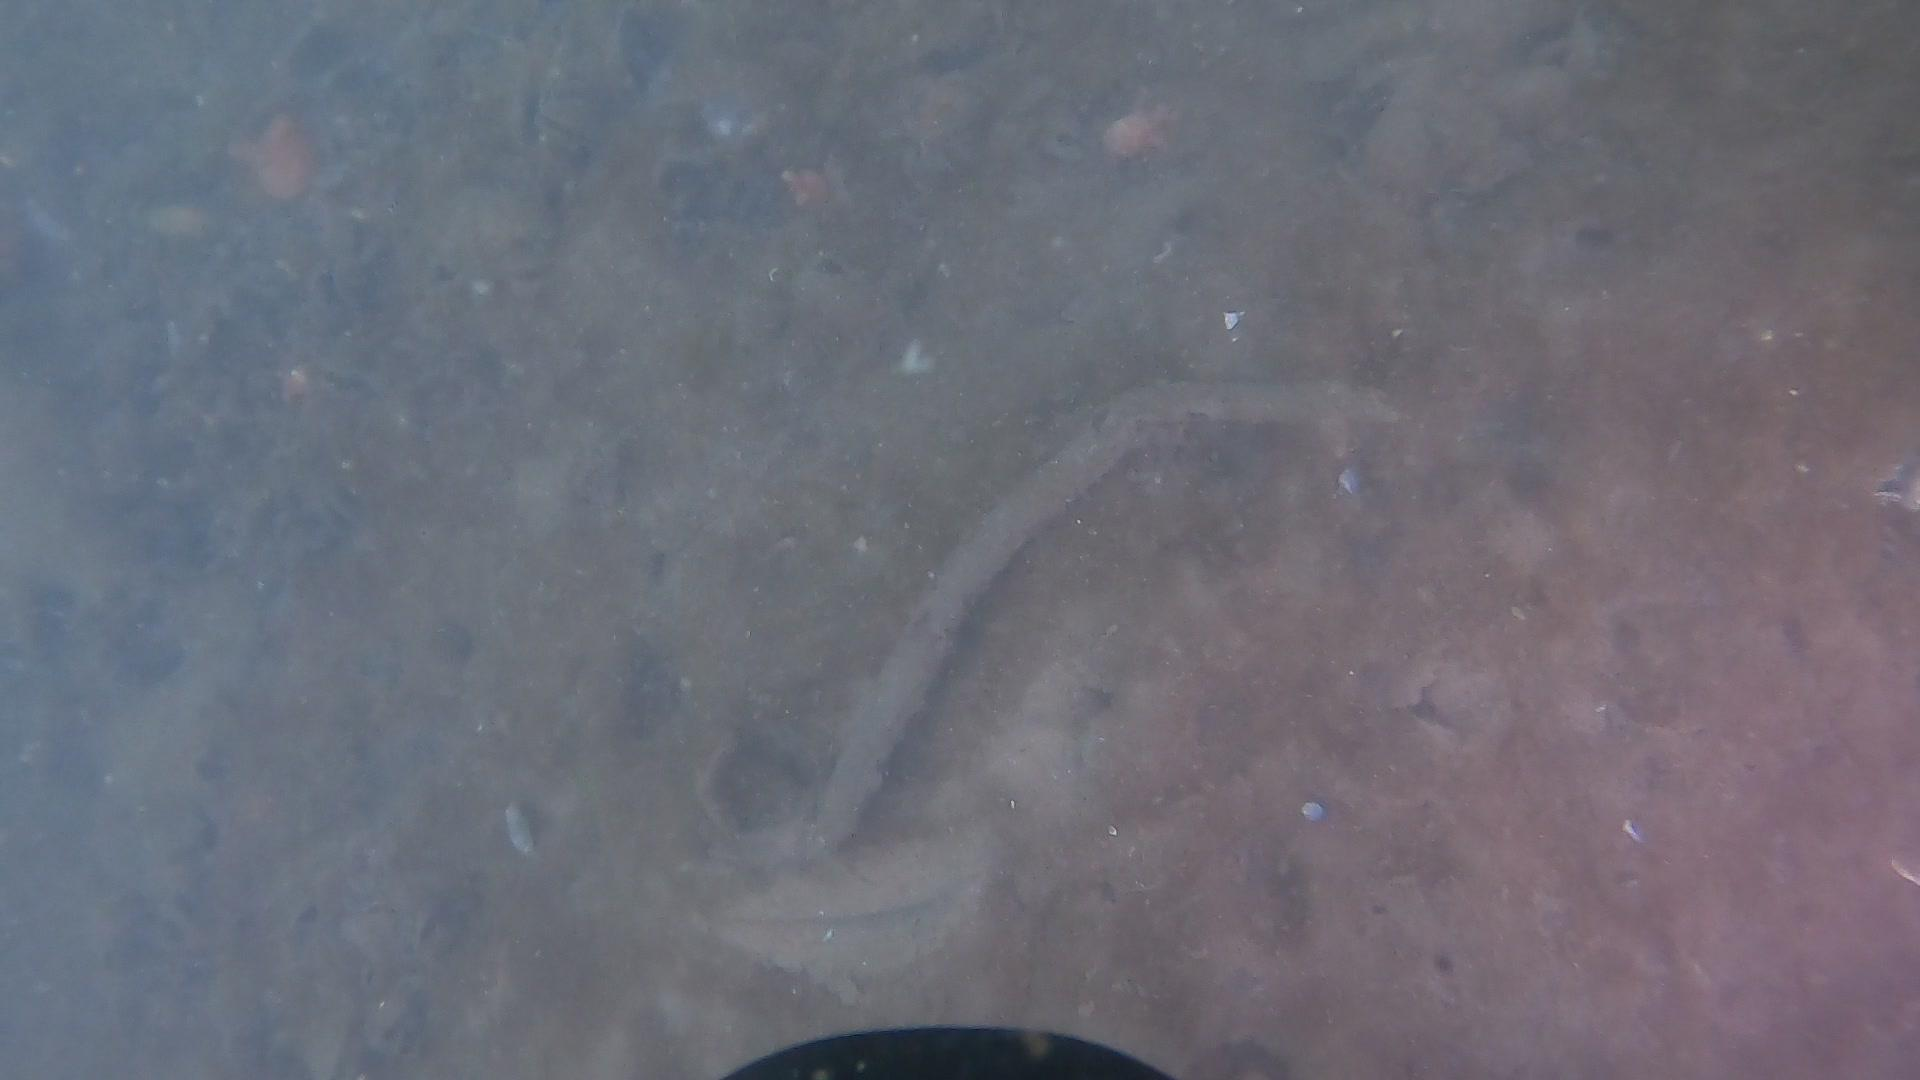wood: (808, 378, 1400, 848)
